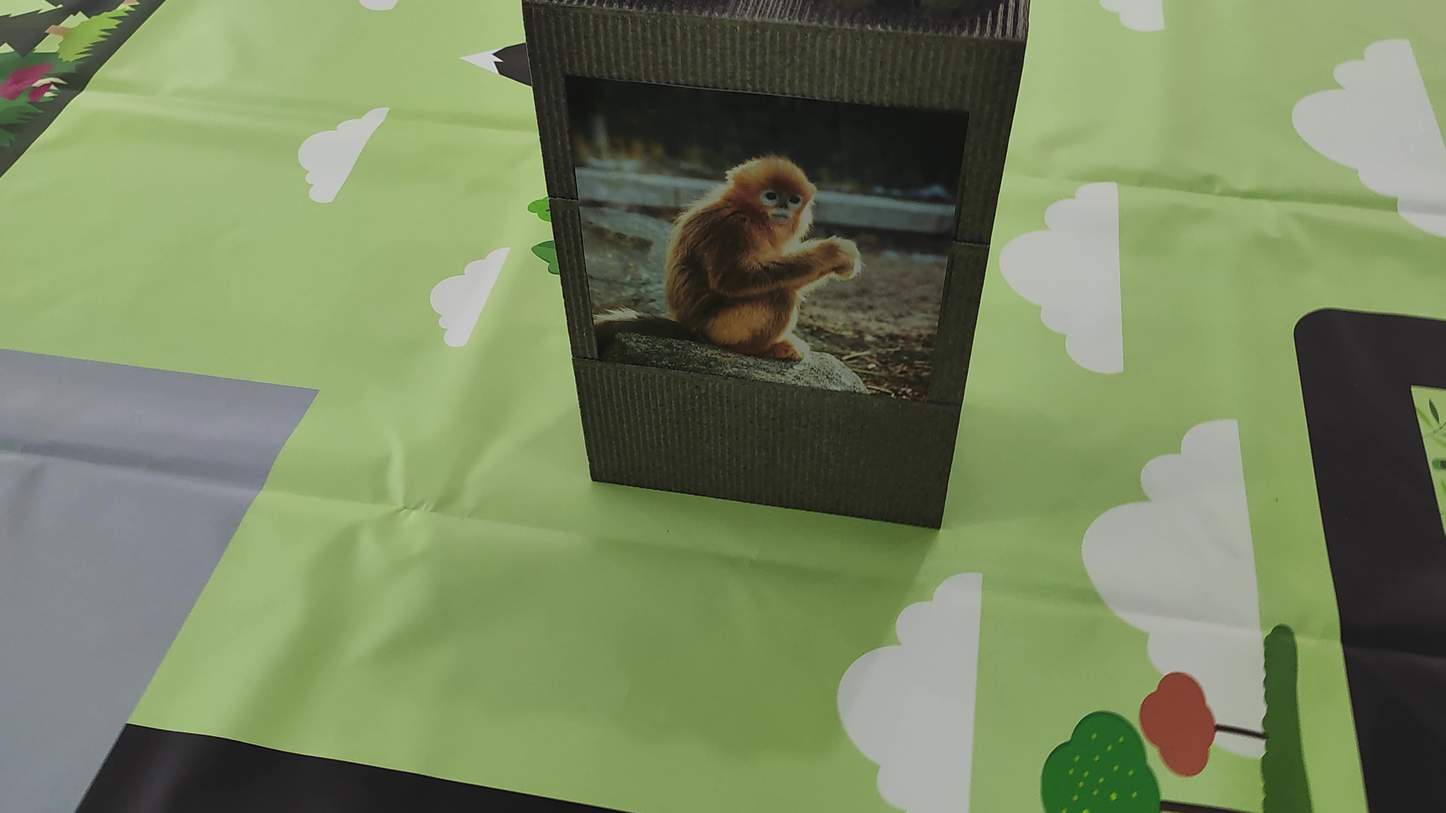monkey: (616, 115, 859, 381)
